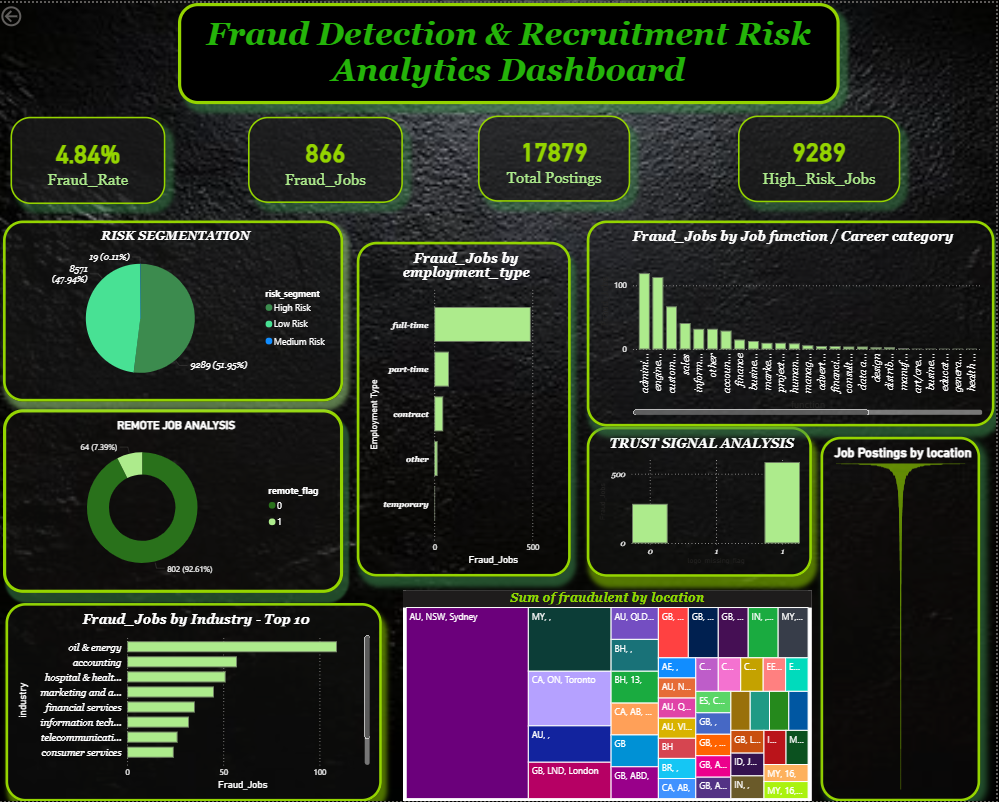

What the dashboard file says about the page in this screenshot:
{"tool":"powerbi","page":{"name":"Dashboard","canvas":[1500,1200],"ordinal":0},"visuals":[{"type":"card","fields":{"Values":["CountNonNull(raw_dataset.job_id)"]},"box":[721.4,169.1,229.2,129.6],"z":0},{"type":"actionButton","box":[0,0,100,40],"z":1000},{"type":"card","fields":{"Values":["Explainability_Sheet.Fraud_Jobs"]},"box":[375.7,170.9,232.9,129.6],"z":2000},{"type":"card","fields":{"Values":["raw_dataset.Fraud_Rate"]},"box":[18.8,170.9,232.9,131.5],"z":3000},{"type":"card","fields":{"Values":["Explainability_Sheet.High_Risk_Jobs"]},"box":[1112,170,244,130],"z":4000},{"type":"clusteredBarChart","title":"Fraud_Jobs by Industry - Top 10","fields":{"Category":["raw_dataset.industry"],"Y":["Explainability_Sheet.Fraud_Jobs"]},"box":[11.3,901.7,565.4,298.7],"z":5000},{"type":"donutChart","title":"REMOTE JOB ANALYSIS","fields":{"Category":["raw_dataset.remote_flag"],"Y":["Explainability_Sheet.Fraud_Jobs"]},"box":[7.5,610.5,511,276.1],"z":6000},{"type":"pieChart","title":"RISK SEGMENTATION","fields":{"Category":["raw_dataset.risk_segment"],"Y":["CountNonNull(raw_dataset.job_id)"]},"box":[7.5,326.9,511,272.4],"z":7000},{"type":"columnChart","title":"TRUST SIGNAL ANALYSIS","fields":{"Category":["raw_dataset.logo_missing_flag"],"Y":["Explainability_Sheet.Fraud_Jobs"]},"box":[884.8,636.8,338.1,225.4],"z":8000},{"type":"textbox","box":[270,0,994,152],"z":9000},{"type":"clusteredBarChart","fields":{"Category":["raw_dataset.employment_type"],"Y":["Explainability_Sheet.Fraud_Jobs"]},"box":[539.1,358.8,321.2,503.4],"z":10000},{"type":"clusteredColumnChart","title":"Fraud_Jobs by Job function / Career category","fields":{"Category":["raw_dataset.function"],"Y":["Explainability_Sheet.Fraud_Jobs"]},"box":[884.8,326.9,612.4,310],"z":11000},{"type":"funnel","title":"Job Postings by location","fields":{"Y":["Count(Explainability_Sheet.job_id)"],"Category":["raw_dataset.location"]},"box":[1236,652,240,548],"z":12000},{"type":"treemap","fields":{"Values":["Sum(raw_dataset.fraudulent)"],"Details":["raw_dataset.location"]},"box":[608,882,614,318],"z":13000}]}

Visuals, with their boxes in screenshot pixels (x1, y1, x2, y2), scaled from the page's 1500x1200 canvas onto the 999x802 screenshot:
card - CountNonNull(raw_dataset.job_id): [480, 113, 633, 200]
actionButton: [0, 0, 67, 27]
card - Explainability_Sheet.Fraud_Jobs: [250, 114, 405, 201]
card - raw_dataset.Fraud_Rate: [13, 114, 168, 202]
card - Explainability_Sheet.High_Risk_Jobs: [741, 114, 903, 200]
"Fraud_Jobs by Industry - Top 10" clusteredBarChart: [8, 603, 384, 801]
"REMOTE JOB ANALYSIS" donutChart: [5, 408, 345, 593]
"RISK SEGMENTATION" pieChart: [5, 218, 345, 401]
"TRUST SIGNAL ANALYSIS" columnChart: [589, 426, 814, 576]
textbox: [180, 0, 842, 102]
clusteredBarChart - raw_dataset.employment_type x Explainability_Sheet.Fraud_Jobs: [359, 240, 573, 576]
"Fraud_Jobs by Job function / Career category" clusteredColumnChart: [589, 218, 997, 426]
"Job Postings by location" funnel: [823, 436, 983, 801]
treemap - Sum(raw_dataset.fraudulent) x raw_dataset.location: [405, 589, 814, 801]
